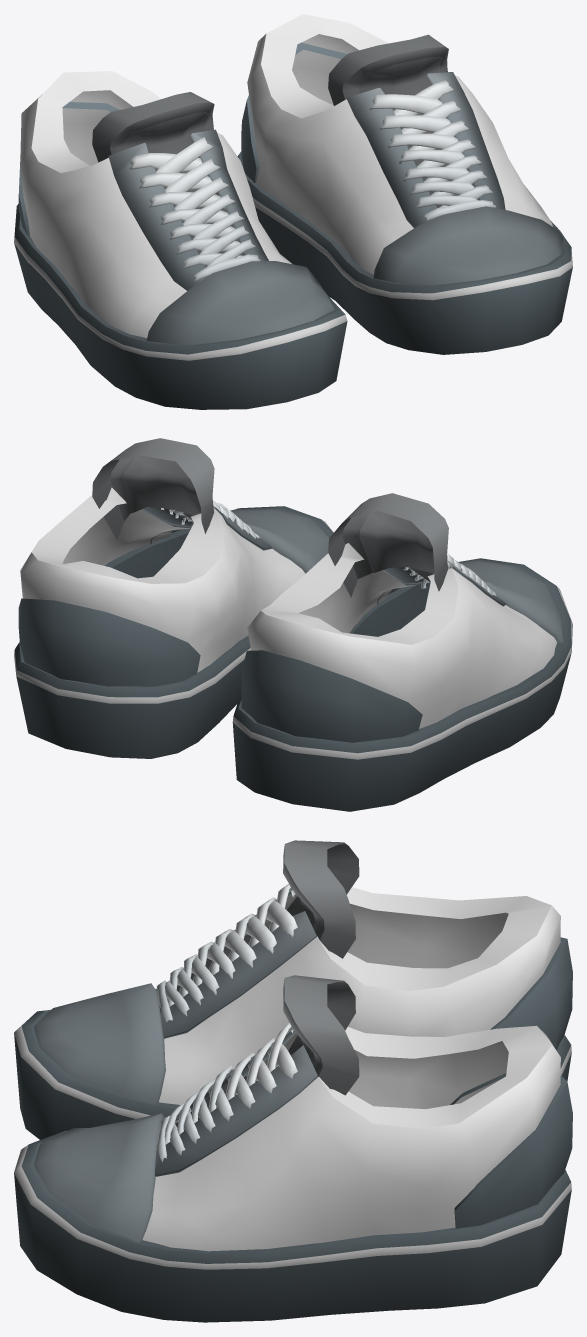
File: Shoe_Sneakers_07.glb
3 renders of one model, top to bottom at view 1: azimuth 30°, elevation 25°; view 2: azimuth 150°, elevation 25°; view 3: azimuth 270°, elevation 25°, orthographic. The views are drawn at different scales.
Visible parts, largest first — view 1: Shoe_Sneakers_07; view 2: Shoe_Sneakers_07; view 3: Shoe_Sneakers_07.
Part boxes in pixels (x1=…): Shoe_Sneakers_07: x1=14, y1=14, x2=572, y2=409; Shoe_Sneakers_07: x1=14, y1=438, x2=572, y2=811; Shoe_Sneakers_07: x1=14, y1=840, x2=572, y2=1322.
Bounding box in the file's own units: 0.2495 × 0.1225 × 0.2239.
1 material, 1 textured.
